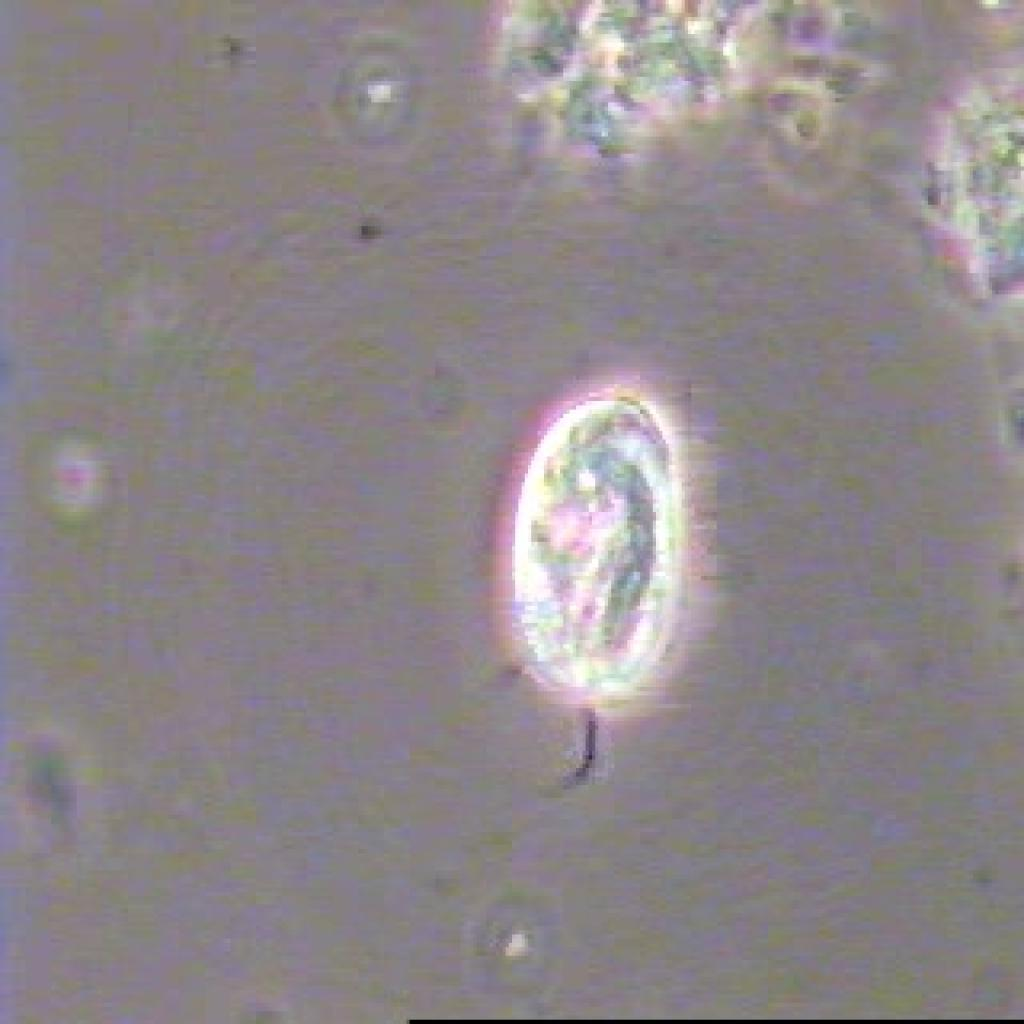Aspidisca: (462, 354, 709, 811)
